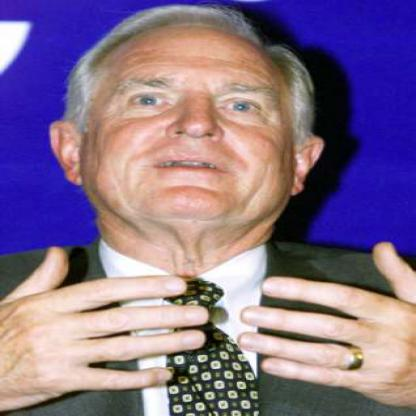face: (80, 19, 305, 239)
